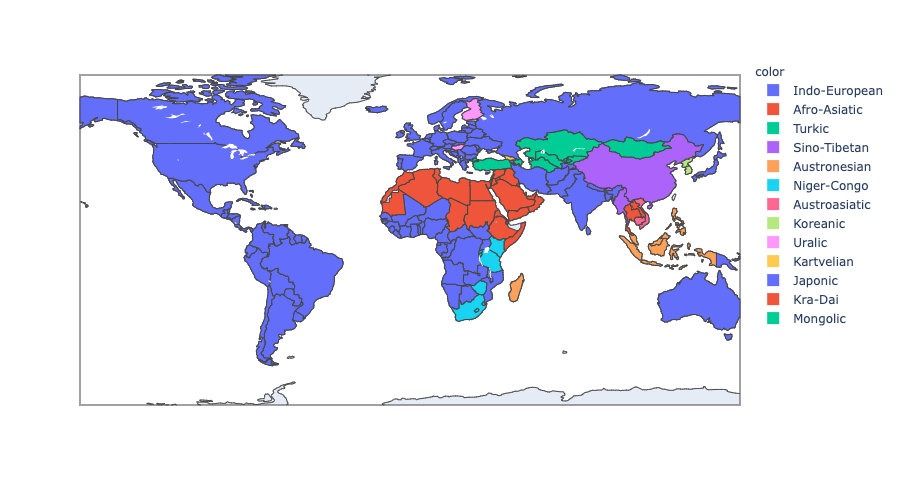

What the dashboard file says about the page in this screenshot:
{"tool":"tableau","page":{"name":"Dashboard 2","canvas":[650,860],"ordinal":1},"visuals":[{"type":"worksheet","title":"Sheet 3","mark":"Multipolygon","box":[8,9.8,474,840.3]},{"type":"legend","title":"Sheet 3","param":"[federated.18ai2ps00hkj1114wkhbp0jn7sxn].[none:CONTINENT:nk]","box":[482,9.8,160,253.4]}]}

Visuals, with their boxes on the page's 650x860 design canvas (x1, y1, x2, y2). These are canvas units, not pixel positions in the 900x500 screenshot, which may show the page scaled, cropped or inside an application window:
"Sheet 3" worksheet (Multipolygon marks): (8, 10, 482, 850)
"Sheet 3" legend: (482, 10, 642, 263)
